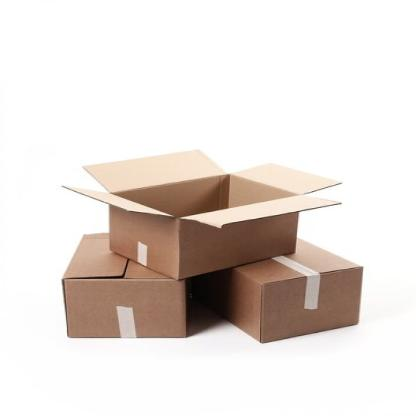box: (259, 265, 363, 344), (63, 276, 186, 338)
